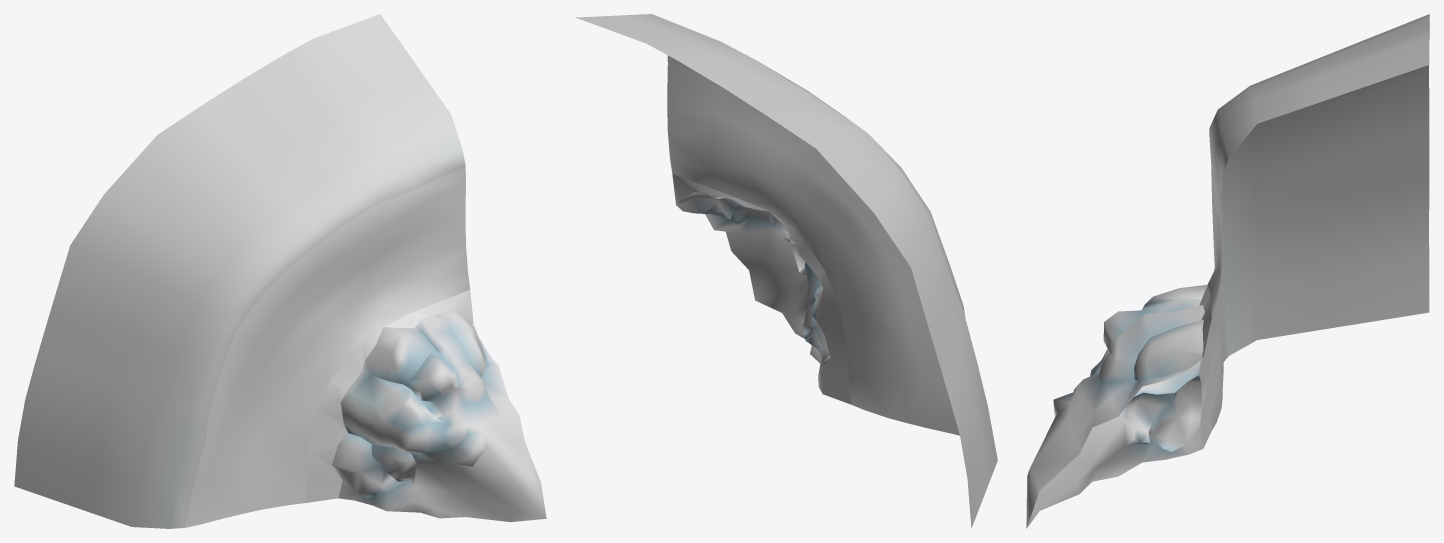
File: Snow_CurveOutA_lod1.glb
The picture shows the model from 3 angles, left to right: view 1: azimuth 30°, elevation 25°; view 2: azimuth 150°, elevation 25°; view 3: azimuth 270°, elevation 25°; orthographic projection. The views are drawn at different scales.
Visible parts, largest first — view 1: MeshNode_0, MeshNode_1; view 2: MeshNode_1, MeshNode_0; view 3: MeshNode_0, MeshNode_1.
Boxes of the visible parts, x1=… form: MeshNode_0: x1=14, y1=14, x2=546, y2=528; MeshNode_1: x1=185, y1=166, x2=473, y2=527; MeshNode_1: x1=667, y1=55, x2=959, y2=435; MeshNode_0: x1=576, y1=14, x2=997, y2=528; MeshNode_0: x1=1026, y1=14, x2=1429, y2=528; MeshNode_1: x1=1199, y1=128, x2=1224, y2=448.
Size of the model in its own units: 105 by 105 by 82.72.
